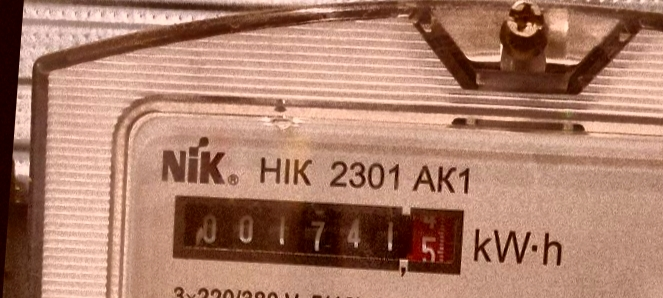0: (233, 211, 255, 246), (197, 211, 219, 245)
1: (269, 211, 289, 248), (379, 218, 396, 254)
4: (341, 214, 364, 251), (419, 212, 436, 231)
5: (415, 232, 437, 264)
7: (305, 217, 324, 253)
screen: (163, 183, 471, 285)
